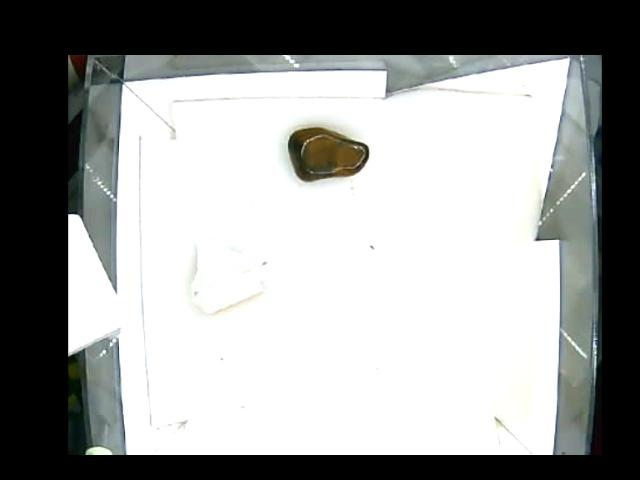China: (188, 237, 282, 310)
Pebble: (285, 126, 370, 182)
